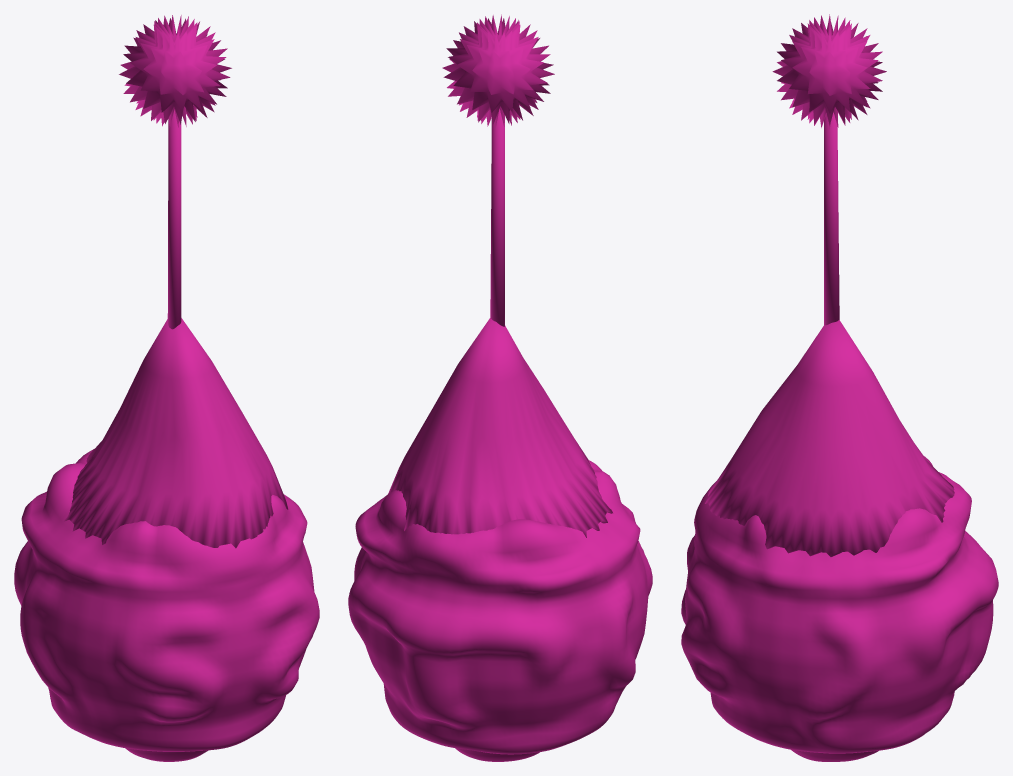
File: spore(mesh).fbx
3 renders of one model, left to right at view 1: azimuth 30°, elevation 25°; view 2: azimuth 150°, elevation 25°; view 3: azimuth 270°, elevation 25°, orthographic.
Parts seen in each view (by area): view 1: spore; view 2: spore; view 3: spore.
Boxes of the visible parts, box(x1,y1,x2,y2) form: spore: box(14, 15, 319, 761); spore: box(348, 14, 652, 761); spore: box(681, 14, 998, 761).
Size of the model in its own units: 271 by 700 by 277.
